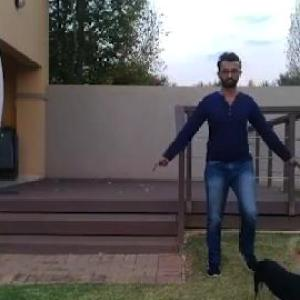land: (164, 57, 288, 270)
